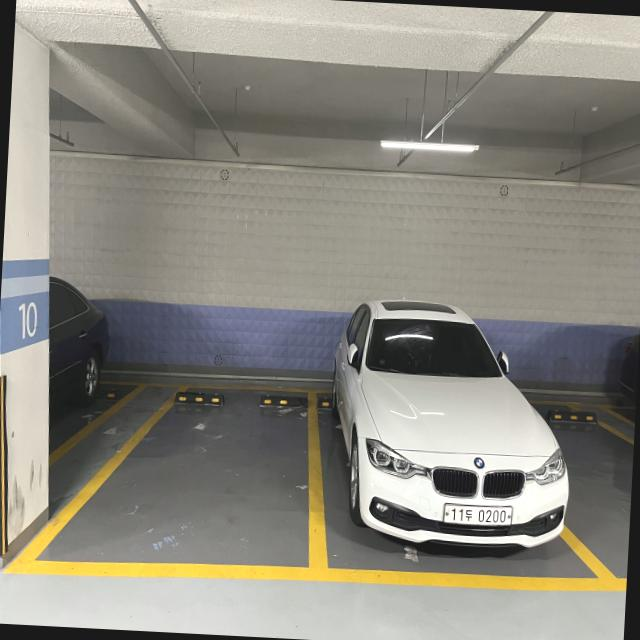car: (329, 283, 568, 566)
free: (7, 380, 319, 594)
